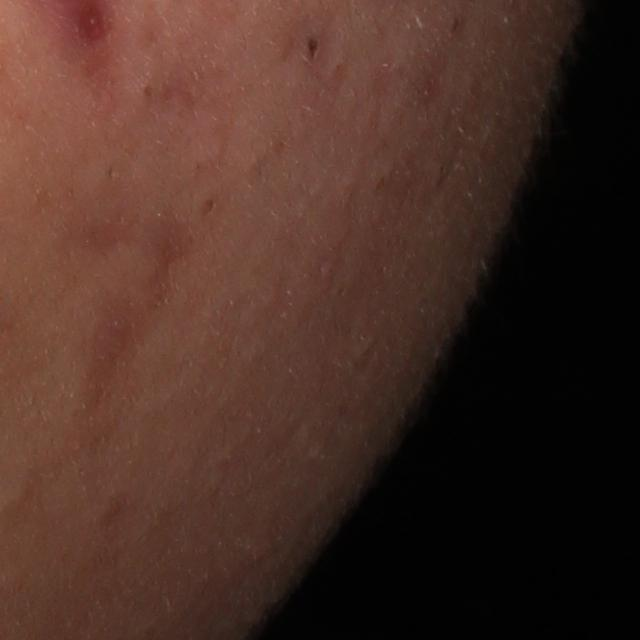comedo: (1, 480, 35, 510), (299, 31, 323, 63)
